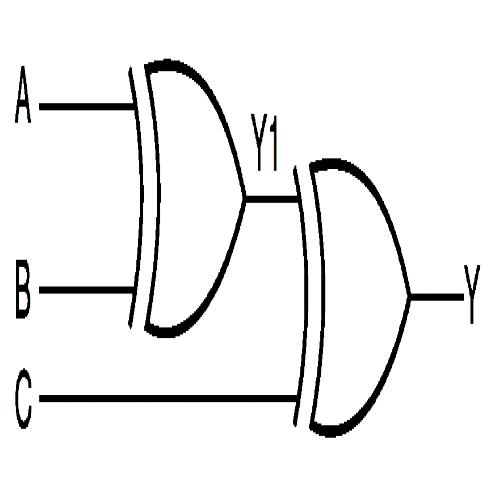xor: (286, 143, 417, 450), (121, 41, 251, 345)
